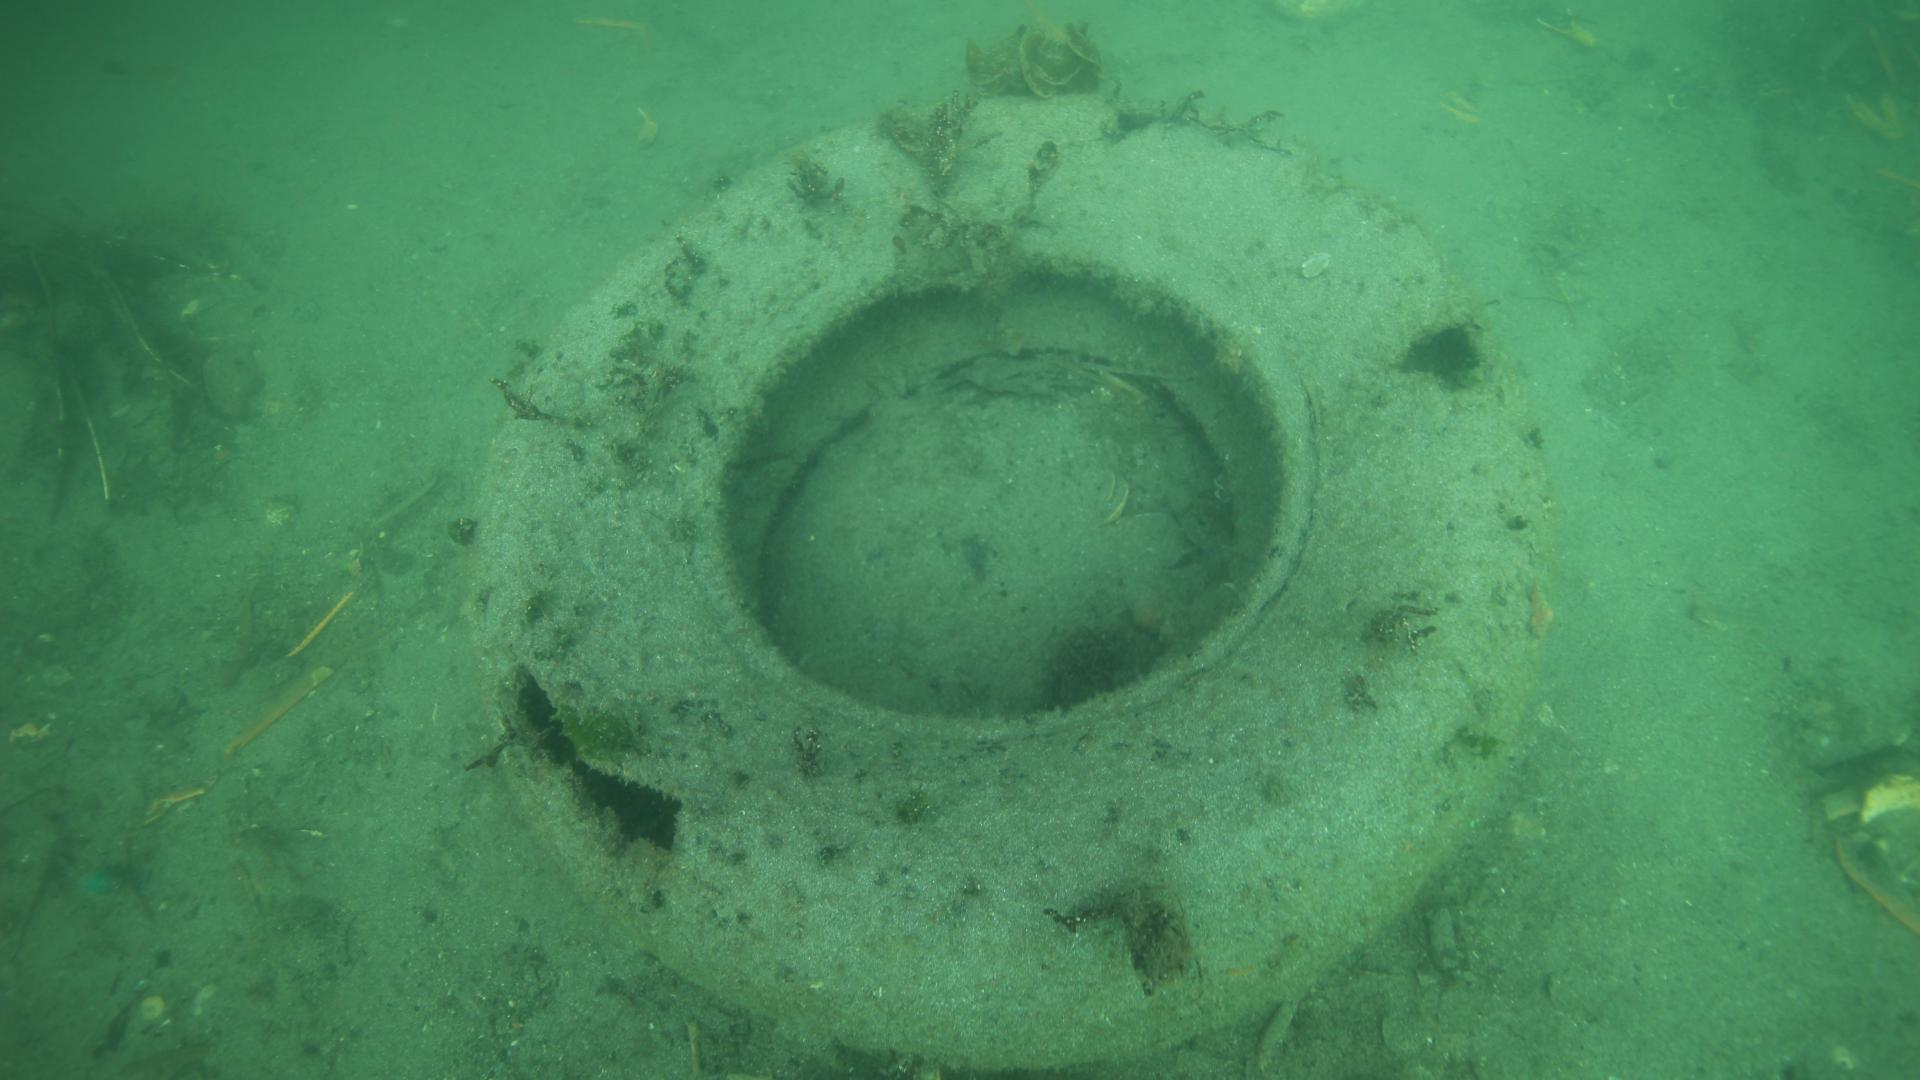tire: (462, 94, 1567, 1080)
